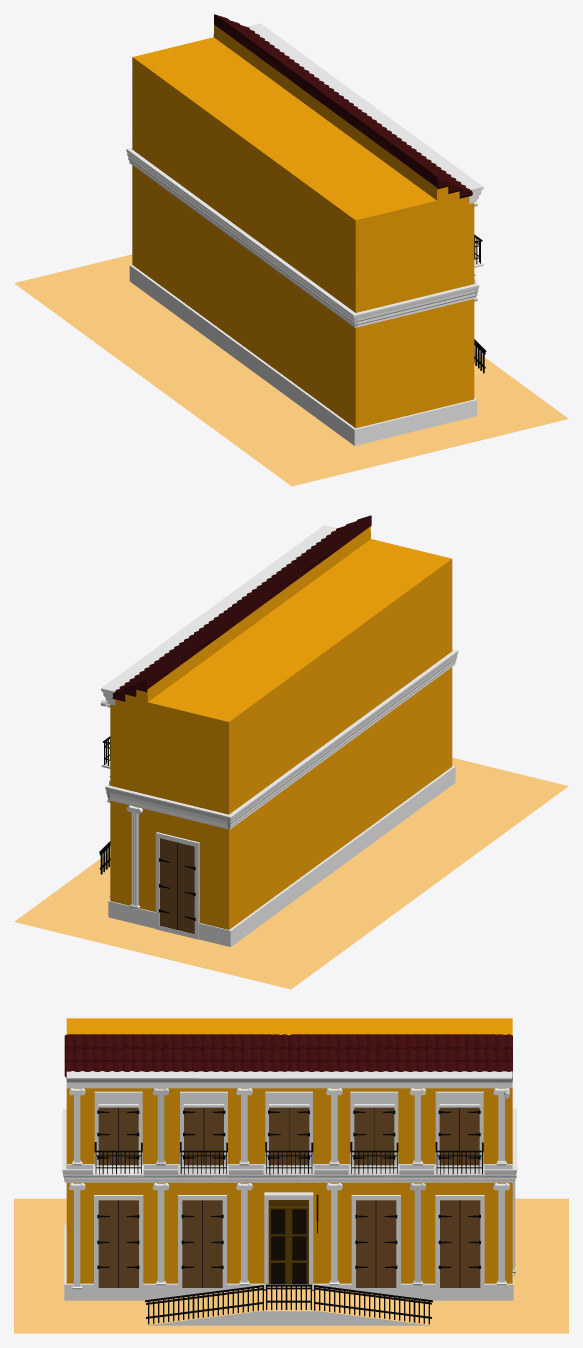
File: LaAuroraCigarWorld_01_Frandy (1).fbx
3 renders of one model, top to bottom at view 1: azimuth 30°, elevation 25°; view 2: azimuth 150°, elevation 25°; view 3: azimuth 270°, elevation 25°, orthographic.
Parts seen in each view (by area): view 1: Cube.294, Plane.025, Cubo.010, Cubo.005, CORNISA_2.006, CORNISA_2, CORNISA_2.003; view 2: Cube.294, Plane.025, Cubo.010, Cubo.005, Cube.051, CORNISA_2.006, CORNISA_2, CORNISA_2.005, Cubo.2_4.002; view 3: Cube.294, Plane.025, Cube.147, Cubo.005, CORNISA_2, Cube.218, Cube.035, Cube.032, Cube.030, Cube.052, CORNISA_2.001, Cubo.010 (+27 smaller).
Part boxes in pixels (x1=…): Cube.294: x1=132, y1=24, x2=474, y2=428; Plane.025: x1=14, y1=254, x2=568, y2=486; Cubo.010: x1=129, y1=264, x2=477, y2=445; Cubo.005: x1=214, y1=14, x2=472, y2=198; CORNISA_2.006: x1=126, y1=148, x2=357, y2=327; CORNISA_2: x1=247, y1=23, x2=483, y2=203; CORNISA_2.003: x1=356, y1=284, x2=476, y2=327; Cube.294: x1=110, y1=526, x2=452, y2=929; Plane.025: x1=14, y1=757, x2=568, y2=989; Cubo.010: x1=108, y1=765, x2=455, y2=946; Cubo.005: x1=112, y1=515, x2=371, y2=701; Cube.051: x1=155, y1=832, x2=199, y2=939; CORNISA_2.006: x1=227, y1=649, x2=458, y2=829; CORNISA_2: x1=101, y1=525, x2=336, y2=705; CORNISA_2.005: x1=109, y1=786, x2=229, y2=829; Cubo.2_4.002: x1=131, y1=812, x2=138, y2=909; Cube.294: x1=66, y1=1018, x2=512, y2=1283; Plane.025: x1=14, y1=1198, x2=568, y2=1333; Cube.147: x1=94, y1=1091, x2=483, y2=1165; Cubo.005: x1=64, y1=1034, x2=512, y2=1079; CORNISA_2: x1=66, y1=1071, x2=512, y2=1088; Cube.218: x1=94, y1=1195, x2=143, y2=1292; Cube.035: x1=435, y1=1195, x2=484, y2=1292; Cube.032: x1=351, y1=1195, x2=400, y2=1292; Cube.030: x1=178, y1=1195, x2=226, y2=1292; Cube.052: x1=264, y1=1192, x2=313, y2=1288; CORNISA_2.001: x1=62, y1=1168, x2=516, y2=1182; Cubo.010: x1=64, y1=1224, x2=513, y2=1300.
Size of the model in its own units: 2107 by 1805 by 3659.
